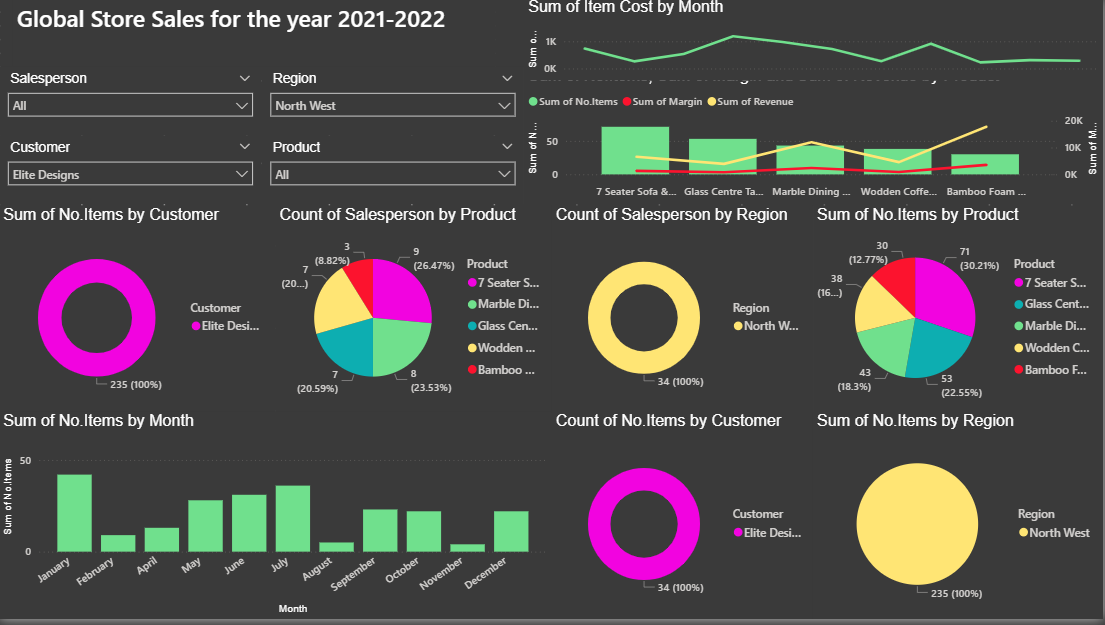

The dashboard page shown, as its layout file describes it:
{"tool":"powerbi","page":{"name":"Page 1","canvas":[1280,720],"ordinal":0},"visuals":[{"type":"textbox","box":[16,0,560,80],"z":0},{"type":"donutChart","fields":{"Category":["Raw_Data.Customer"],"Y":["CountNonNull(Raw_Data.No.Items)"]},"box":[640,480,304,240],"z":1000},{"type":"pieChart","fields":{"Category":["Raw_Data.Region"],"Y":["Sum(Raw_Data.No.Items)"]},"box":[944,480,336,240],"z":2000},{"type":"donutChart","fields":{"Category":["Raw_Data.Customer"],"Y":["Sum(Raw_Data.No.Items)"]},"box":[0,240,320,240],"z":3000},{"type":"pieChart","fields":{"Category":["Raw_Data.Product"],"Y":["Sum(Raw_Data.No.Items)"]},"box":[944,240,336,240],"z":4000},{"type":"donutChart","fields":{"Category":["Raw_Data.Region"],"Y":["CountNonNull(Raw_Data.Salesperson)"]},"box":[640,240,304,240],"z":5000},{"type":"slicer","fields":{"Values":["Raw_Data.Product"]},"box":[304,160,304,80],"z":7000},{"type":"slicer","fields":{"Values":["Raw_Data.Customer"]},"box":[0,160,304,80],"z":8000},{"type":"slicer","fields":{"Values":["Raw_Data.Salesperson"]},"box":[0,80,304,80],"z":9000},{"type":"slicer","fields":{"Values":["Raw_Data.Region"]},"box":[304,80,304,80],"z":10000},{"type":"lineClusteredColumnComboChart","fields":{"Category":["Raw_Data.Product"],"Y":["Sum(Raw_Data.No.Items)"],"Y2":["Sum(Raw_Data.Margin)","Sum(Raw_Data.Revenue)"]},"box":[608,80,672,160],"z":11000},{"type":"pieChart","fields":{"Y":["CountNonNull(Raw_Data.Salesperson)"],"Category":["Raw_Data.Product"]},"box":[320,240,320,240],"z":12000},{"type":"lineChart","fields":{"Category":["Raw_Data.Date.Variation.Date Hierarchy.Month"],"Y":["Sum(Raw_Data.Item Cost)"]},"box":[608,0,672,96],"z":13000},{"type":"clusteredColumnChart","fields":{"Category":["Raw_Data.Date.Variation.Date Hierarchy.Month"],"Y":["Sum(Raw_Data.No.Items)"]},"box":[0,480,640,240],"z":14000}]}

Visuals, with their boxes in screenshot pixels (x1, y1, x2, y2), scaled from the page's 1280x720 canvas onto the 1105x625 screenshot:
textbox: 14:0:497:69
donutChart - Raw_Data.Customer x CountNonNull(Raw_Data.No.Items): 552:417:815:624
pieChart - Raw_Data.Region x Sum(Raw_Data.No.Items): 815:417:1104:624
donutChart - Raw_Data.Customer x Sum(Raw_Data.No.Items): 0:208:276:417
pieChart - Raw_Data.Product x Sum(Raw_Data.No.Items): 815:208:1104:417
donutChart - Raw_Data.Region x CountNonNull(Raw_Data.Salesperson): 552:208:815:417
slicer - Raw_Data.Product: 262:139:525:208
slicer - Raw_Data.Customer: 0:139:262:208
slicer - Raw_Data.Salesperson: 0:69:262:139
slicer - Raw_Data.Region: 262:69:525:139
lineClusteredColumnComboChart - Raw_Data.Product x Sum(Raw_Data.No.Items): 525:69:1104:208
pieChart - CountNonNull(Raw_Data.Salesperson) x Raw_Data.Product: 276:208:552:417
lineChart - Raw_Data.Date.Variation.Date Hierarchy.Month x Sum(Raw_Data.Item Cost): 525:0:1104:83
clusteredColumnChart - Raw_Data.Date.Variation.Date Hierarchy.Month x Sum(Raw_Data.No.Items): 0:417:552:624
